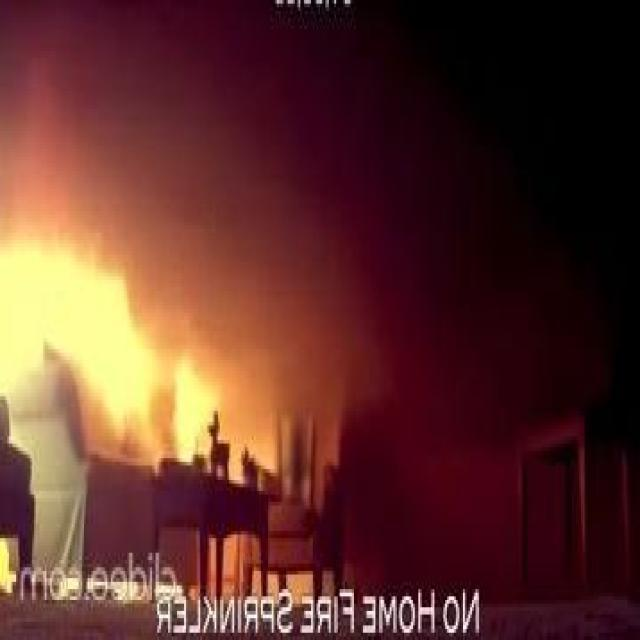smoke: (0, 233, 159, 436), (172, 356, 212, 462)
